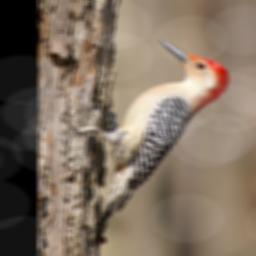Woodpecker: (68, 39, 234, 236)
